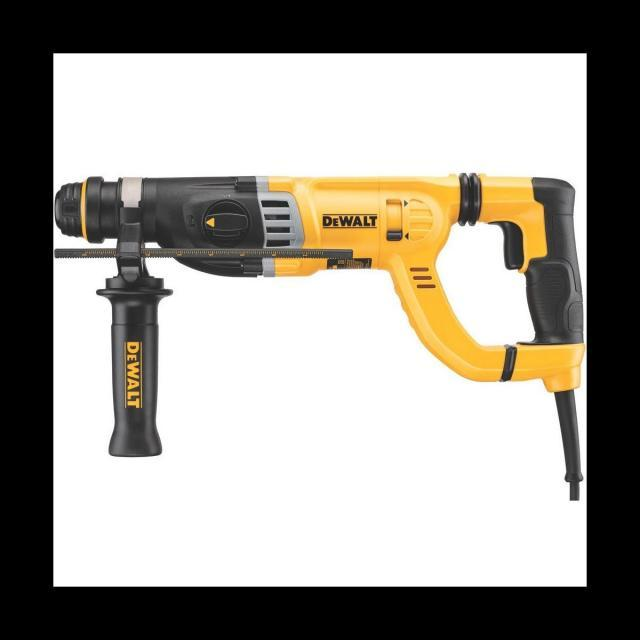drill: (53, 173, 588, 502)
